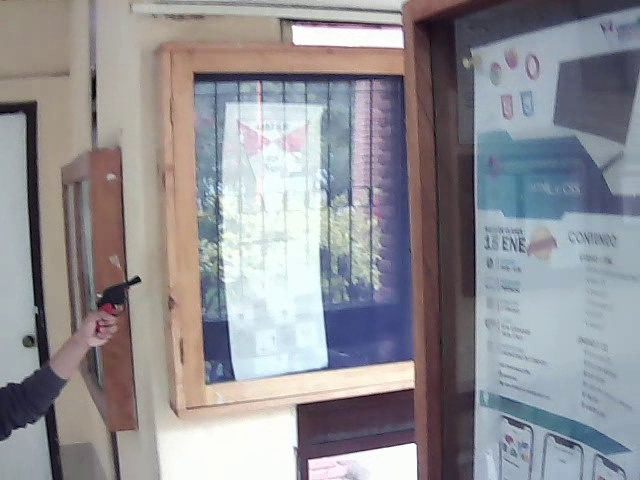pistola: (91, 263, 148, 326)
